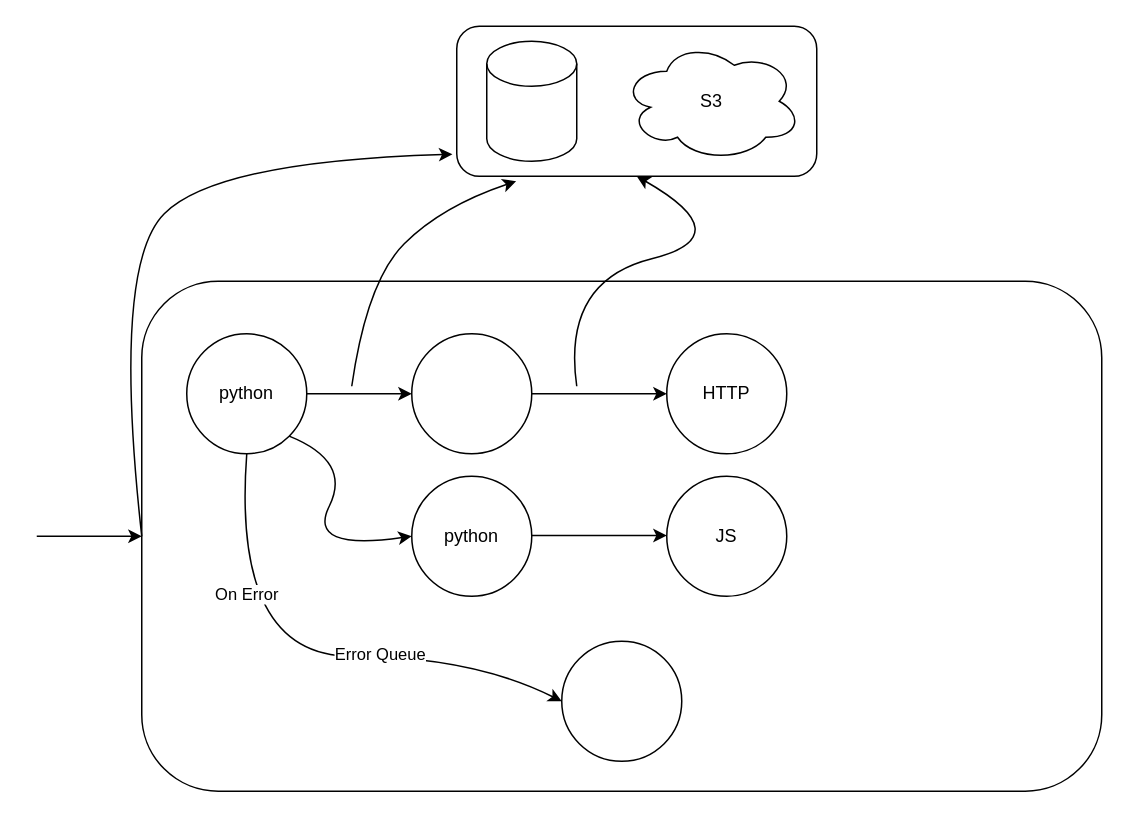
This 1128x818 diagram has some shape labels left out. The centre of each missing label's shape, as x and y in pixels:
"DB" belongs at [531,100].
"Error Handle" belongs at [621,700].
"SQL" belongs at [471,393].
